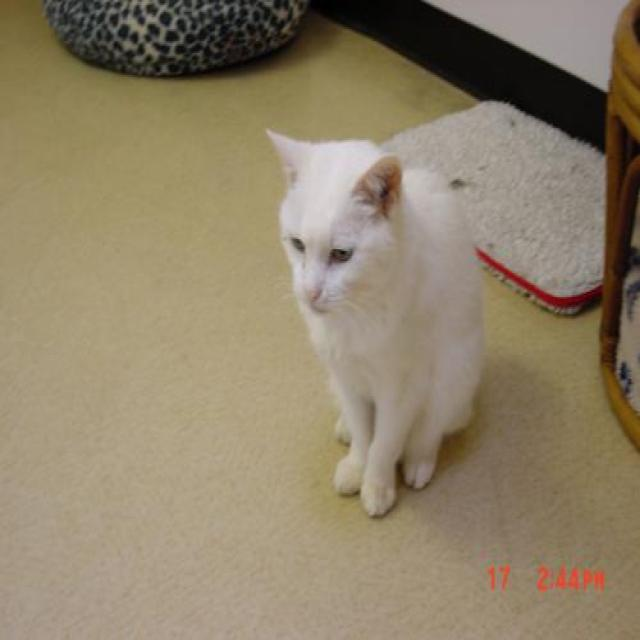Cats: (264, 126, 485, 517)
